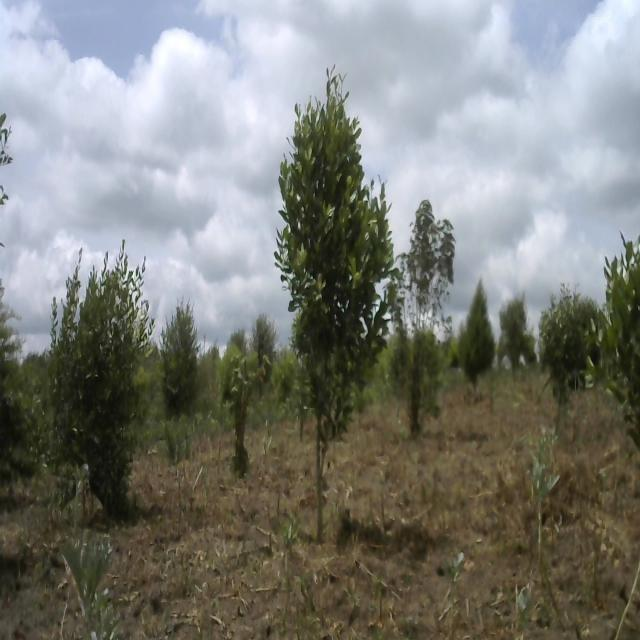Juniperus procesera: (462, 266, 500, 418)
Olea europea -africana-: (39, 229, 150, 532)
Syzygium guinesis: (271, 59, 399, 549)
